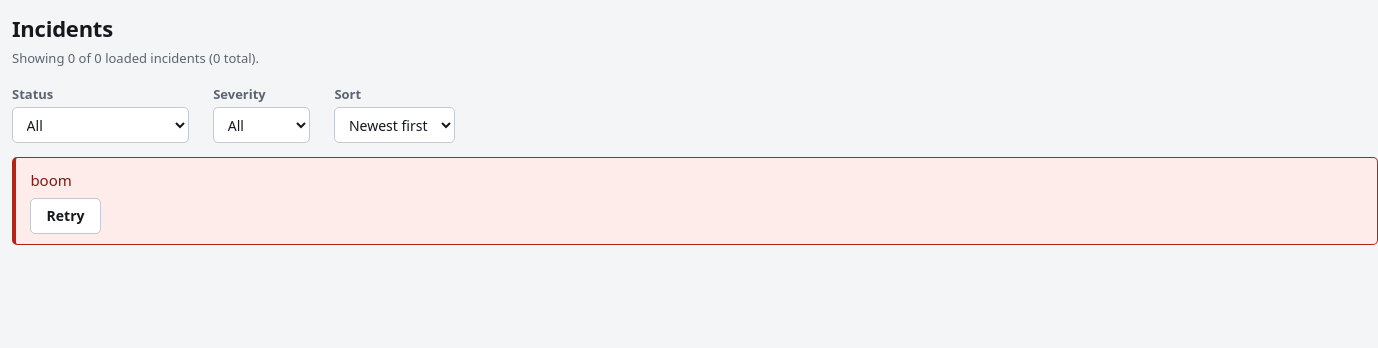
it: IncidentListPage › shows an error with retry when loading fails
Check: the text "boom" is shown, box [30, 170, 72, 190]
Step 1. Click the button "Retry" → (66,216), box [30, 198, 101, 234]
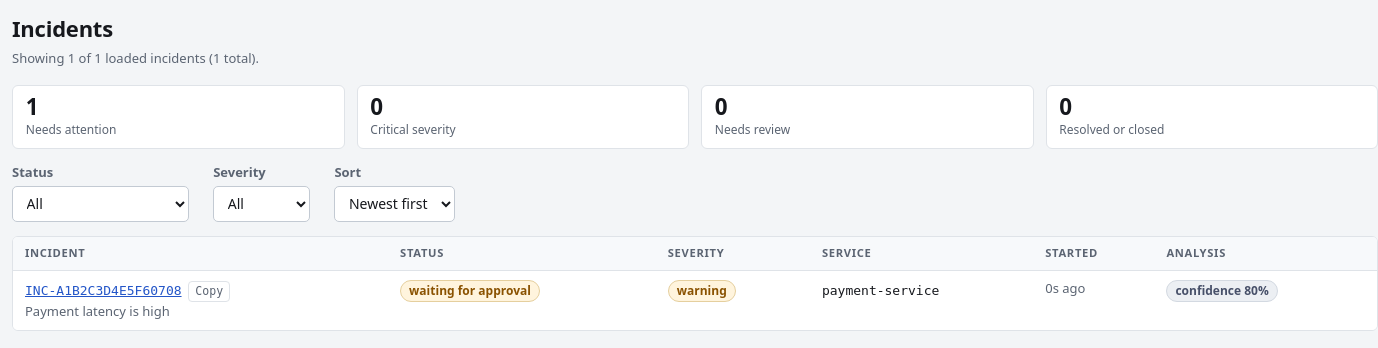
Check: the text "INC-A1B2C3D4E5F60708" is shown, box [25, 283, 182, 298]
